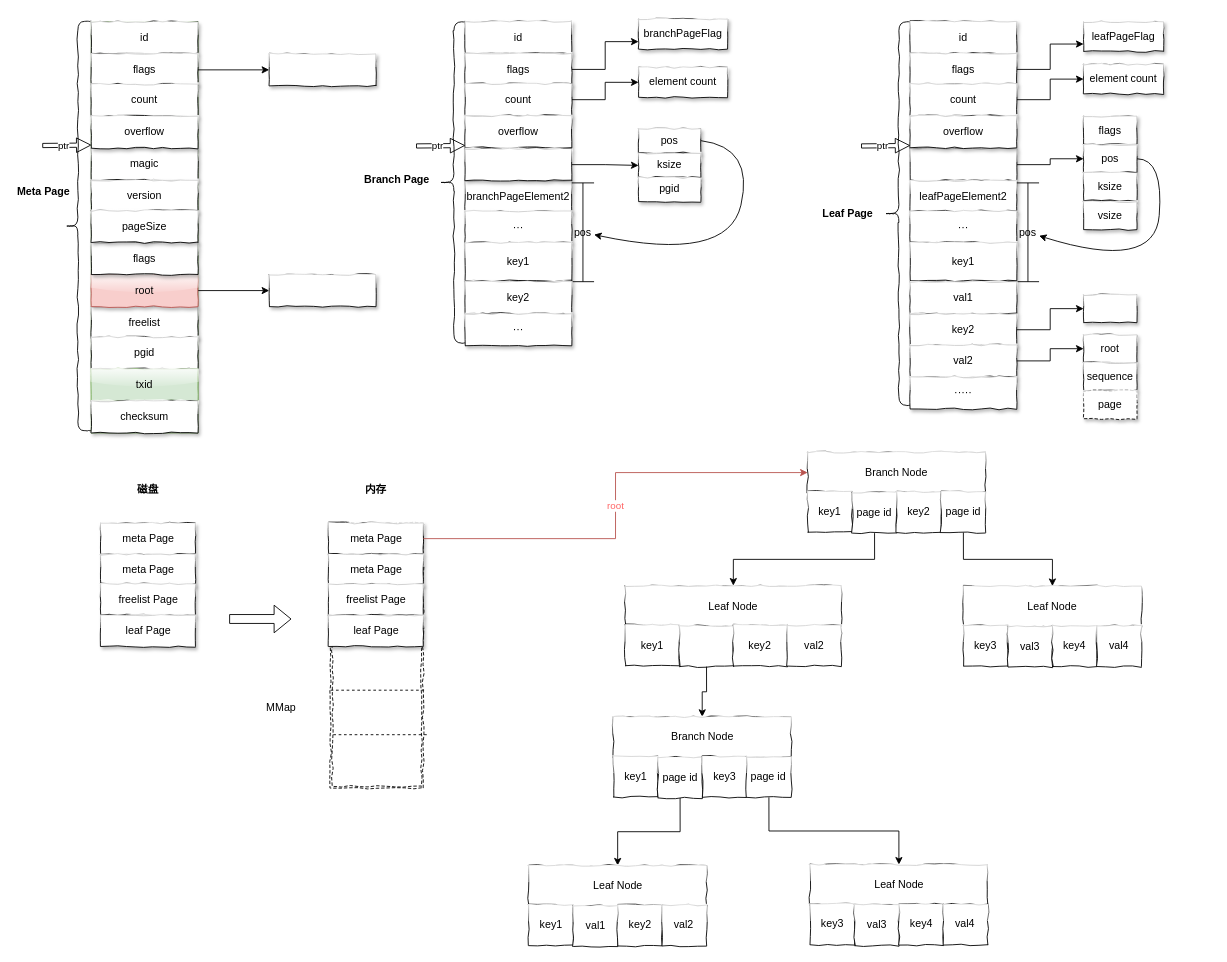
Some shapes in this 1227 by 962 pixel diagram are drawn without their labels. The centre of each missing label's shape, as x and y in pixels:
"branchPageElement1" belongs at (x=519, y=165).
"leafPageElement1" belongs at (x=964, y=165).
"metaPageFlag" belongs at (x=323, y=70).
"pageid" belongs at (x=323, y=291).
"subbucket" belongs at (x=706, y=646).
"subbucket key" belongs at (x=1110, y=309).
